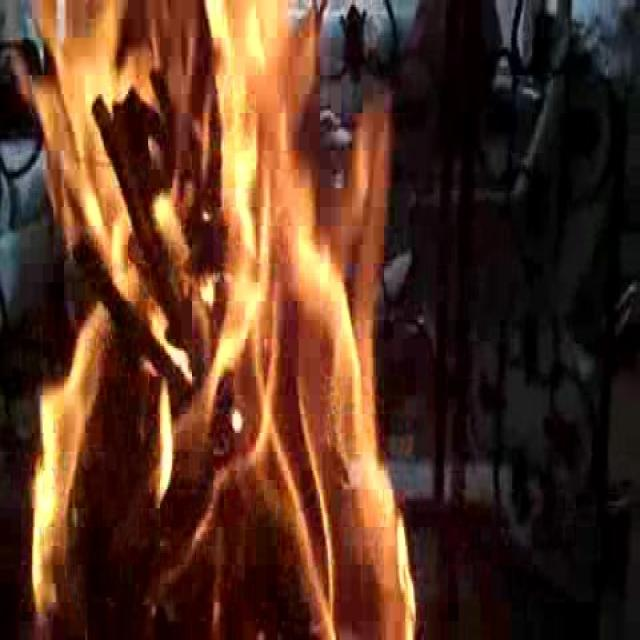fire: (26, 7, 407, 640)
